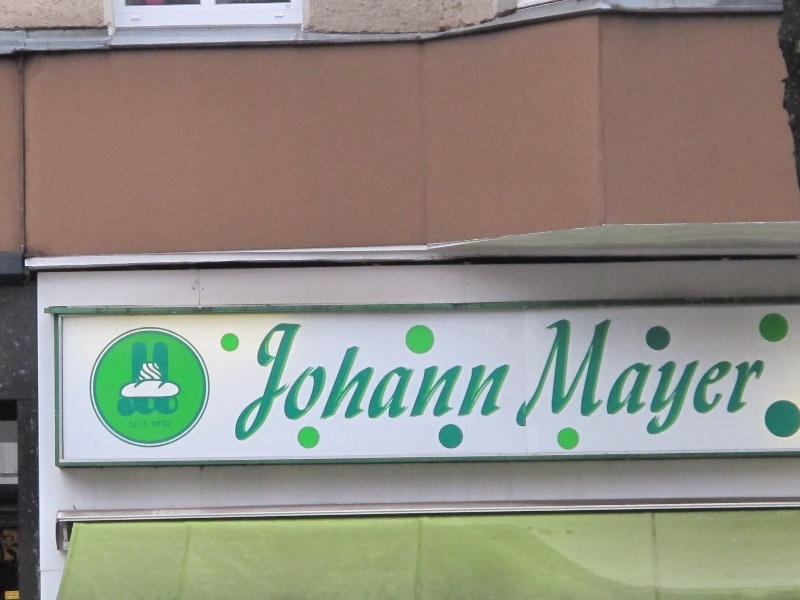text: (273, 320, 288, 444), (289, 320, 304, 444), (305, 320, 320, 444), (321, 320, 336, 444), (337, 320, 352, 444), (353, 320, 368, 444), (369, 320, 384, 444), (385, 320, 400, 444), (401, 320, 416, 444), (417, 320, 432, 444), (433, 320, 448, 444), (449, 320, 464, 444), (465, 320, 480, 444), (481, 320, 496, 444), (497, 320, 512, 444), (561, 317, 576, 438), (577, 317, 592, 438), (593, 317, 608, 438), (609, 317, 624, 438), (625, 317, 640, 438), (641, 317, 656, 438), (657, 317, 672, 438), (673, 317, 688, 438), (689, 317, 704, 438), (705, 317, 720, 438), (721, 317, 736, 438), (737, 317, 752, 438), (753, 317, 768, 438), (547, 317, 560, 438), (260, 320, 272, 444), (769, 317, 778, 438), (513, 320, 520, 444), (129, 421, 144, 428), (161, 420, 172, 427), (151, 420, 160, 427), (145, 421, 148, 428)
